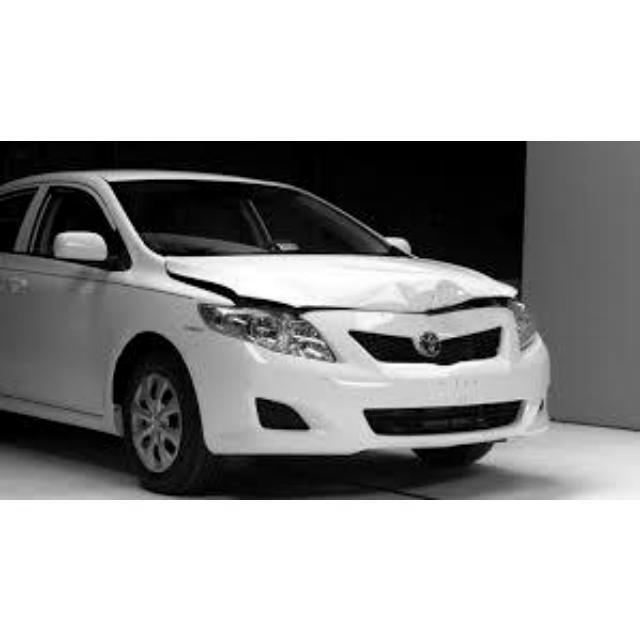bonnet-dent: (219, 252, 540, 311)
